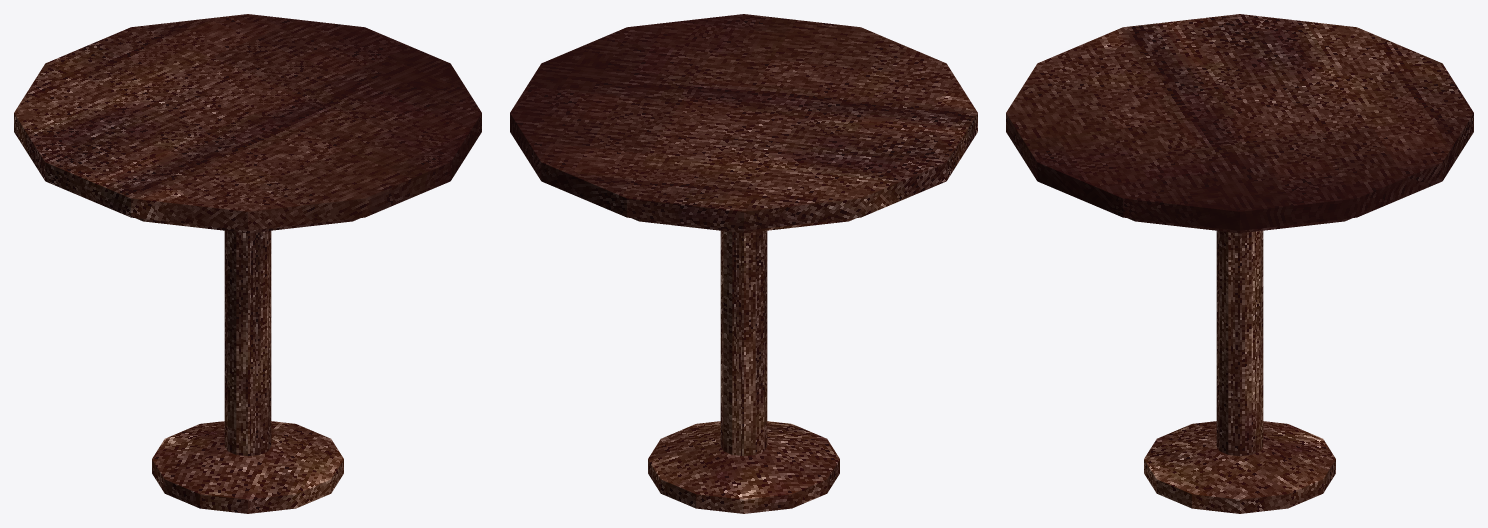
Rendered from Table.glb.
3 renders of one model, left to right at view 1: azimuth 30°, elevation 25°; view 2: azimuth 150°, elevation 25°; view 3: azimuth 270°, elevation 25°, orthographic.
Parts seen in each view (by area): view 1: Table; view 2: Table; view 3: Table.
Part boxes in pixels (x1=…): Table: x1=14, y1=14, x2=481, y2=513; Table: x1=510, y1=14, x2=977, y2=513; Table: x1=1006, y1=14, x2=1473, y2=513.
Size of the model in its own units: 1 by 0.85 by 1.
Materials: 1 (1 with a texture image).
